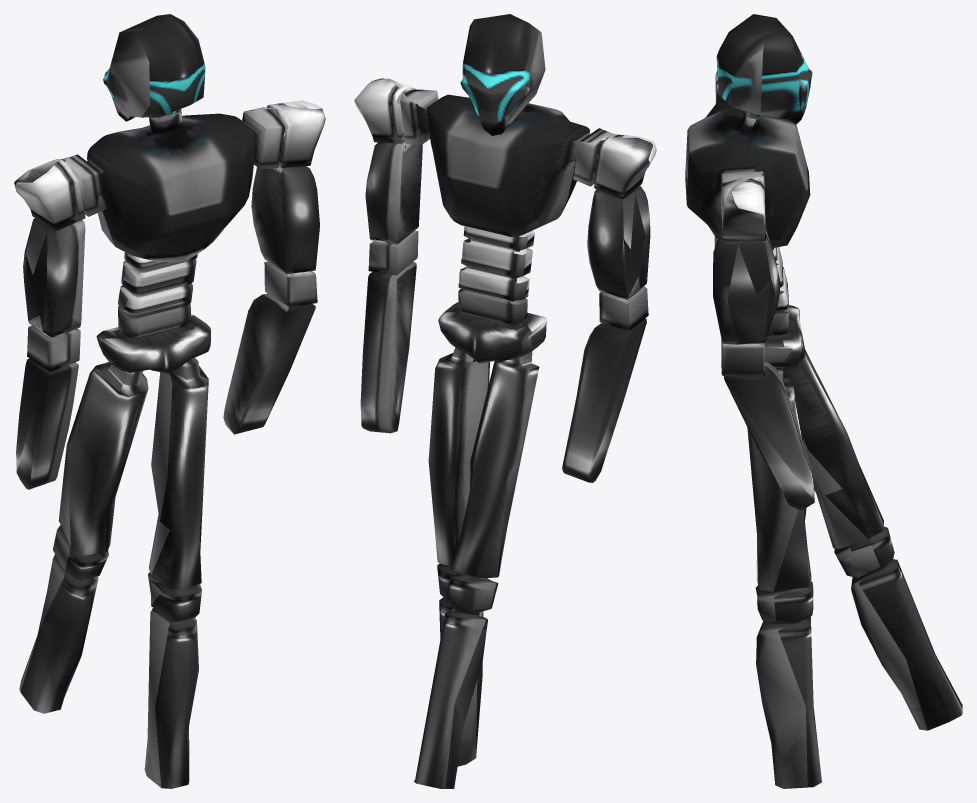
File: frame_028.obj
The picture shows the model from 3 angles, left to right: view 1: azimuth 30°, elevation 25°; view 2: azimuth 150°, elevation 25°; view 3: azimuth 270°, elevation 25°; orthographic projection. The views are drawn at different scales.
Visible parts, largest first — view 1: Cyborg, PiernaD, PierzaI, AntebrazoD, Cabeza, BrazoD; view 2: Cyborg, PierzaI, PiernaD, AntebrazoD, Cabeza, BrazoD; view 3: PierzaI, PiernaD, Cyborg, AntebrazoD, Cabeza, BrazoD.
Boxes of the visible parts, x1,y1,x2,y2 form: Cyborg: (14, 107, 285, 489); PiernaD: (144, 357, 208, 788); PierzaI: (19, 362, 148, 713); AntebrazoD: (251, 100, 325, 306); Cabeza: (103, 14, 205, 121); BrazoD: (223, 293, 315, 434); Cyborg: (400, 89, 656, 482); PierzaI: (414, 351, 539, 788); PiernaD: (428, 347, 489, 766); AntebrazoD: (354, 78, 422, 275); Cabeza: (460, 14, 545, 135); BrazoD: (360, 262, 416, 433); PierzaI: (783, 349, 962, 730); PiernaD: (747, 368, 821, 788); Cyborg: (685, 71, 810, 369); AntebrazoD: (713, 178, 780, 376); Cabeza: (716, 14, 812, 124); BrazoD: (724, 361, 814, 510).
Size of the model in its own units: 10.13 by 24.67 by 8.35.
Materials: 1 (1 with a texture image).
